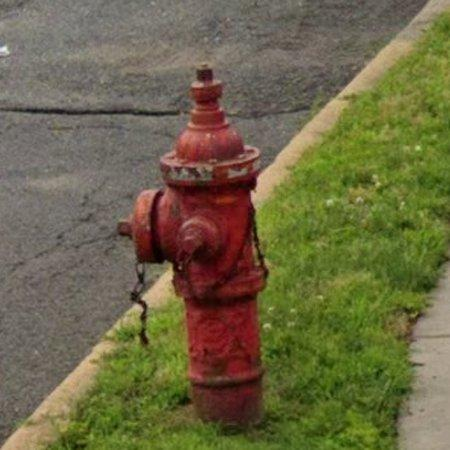a fire hydrant: (119, 65, 269, 426)
